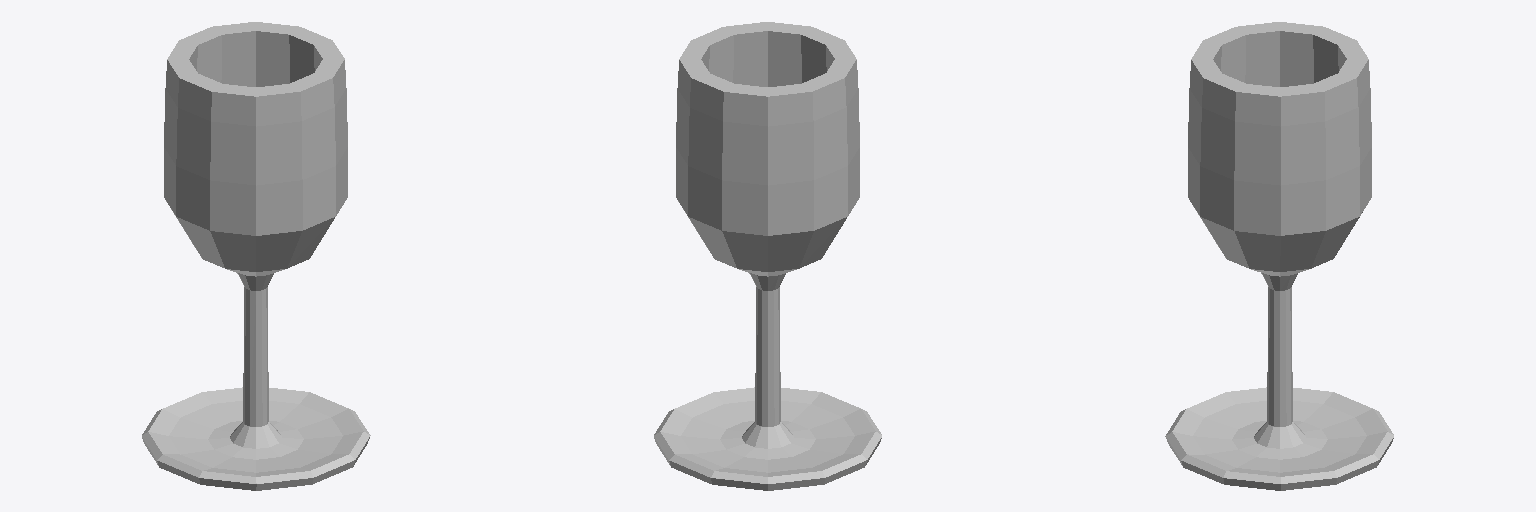
Rendered from Verre.obj.
3 views of the same model, side by side, from view 1: azimuth 30°, elevation 25°; view 2: azimuth 150°, elevation 25°; view 3: azimuth 270°, elevation 25° (orthographic).
Visible parts, largest first — view 1: Cube; view 2: Cube; view 3: Cube.
Part boxes in pixels (x1,y1,x2,y2): Cube: (142, 22, 370, 490); Cube: (654, 22, 881, 490); Cube: (1165, 22, 1393, 490).
Bounding box in the file's own units: 7.75 × 14.67 × 7.75.